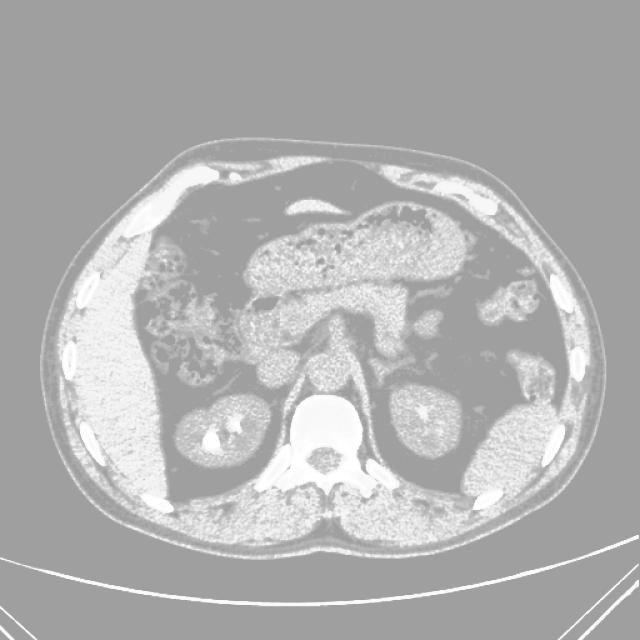STONE: (96, 245, 509, 473)
